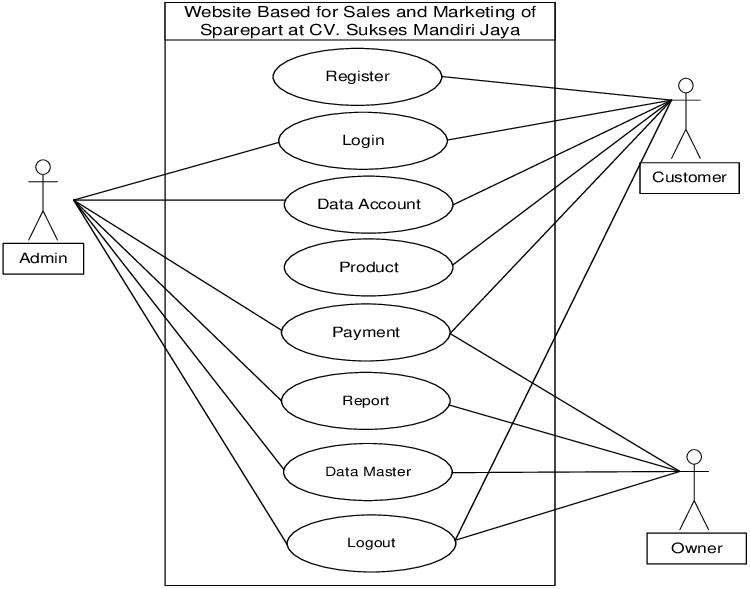actor: (25, 159, 67, 241), (680, 447, 715, 532), (669, 75, 703, 160)
association: (459, 105, 670, 536), (85, 219, 286, 544), (84, 215, 284, 469), (455, 108, 665, 328), (85, 210, 280, 401), (455, 105, 667, 262), (455, 333, 681, 471), (81, 199, 279, 330), (456, 103, 665, 203), (459, 473, 675, 542), (452, 406, 674, 468), (76, 141, 277, 199), (451, 99, 671, 138), (444, 74, 670, 99), (458, 459, 673, 476), (81, 195, 283, 207)
text: (178, 5, 539, 38), (316, 191, 424, 216), (316, 65, 402, 87), (332, 252, 404, 277), (324, 462, 417, 480), (328, 322, 405, 342), (650, 169, 731, 186), (336, 129, 397, 151), (665, 538, 732, 558), (335, 389, 398, 410), (14, 250, 72, 269), (342, 534, 401, 550)
use_case: (284, 512, 459, 574), (280, 441, 454, 503), (277, 109, 450, 171), (279, 301, 452, 363), (282, 174, 456, 235), (278, 370, 452, 431), (272, 45, 445, 106), (281, 238, 455, 298)
